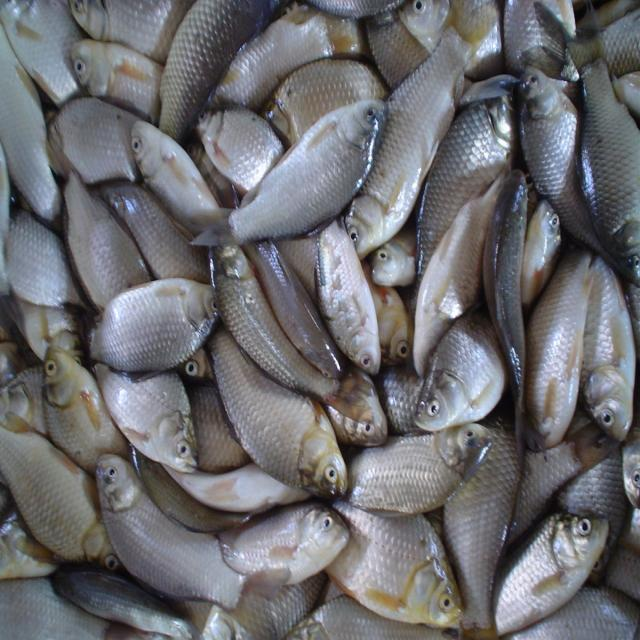pescado: (3, 2, 632, 638)
